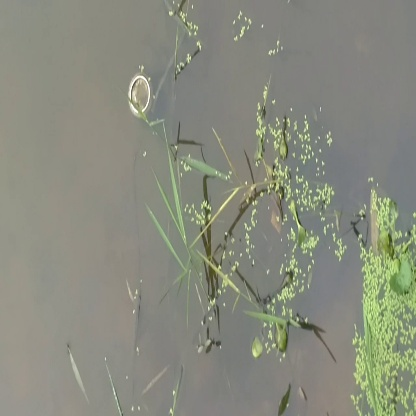bottle: (120, 67, 155, 120)
